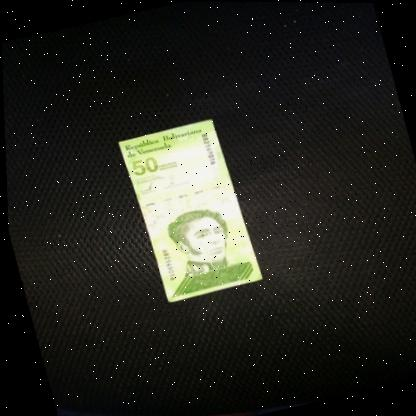fifty-front-vef: (116, 117, 261, 304)
